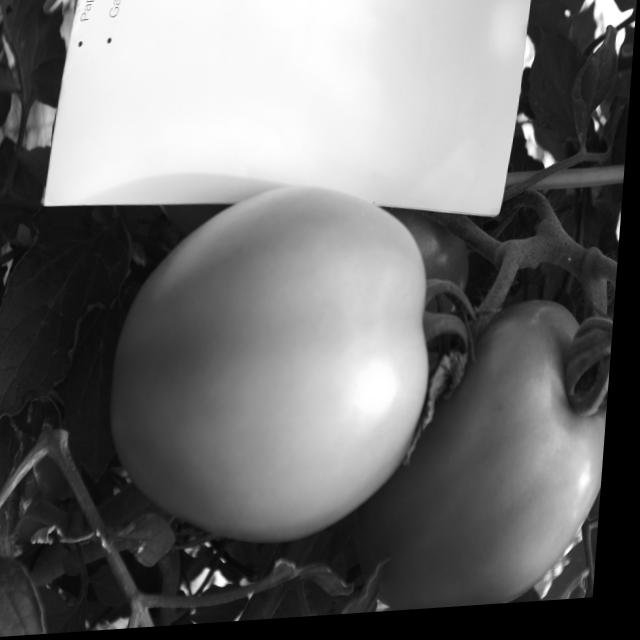yesil: (66, 159, 629, 607)
